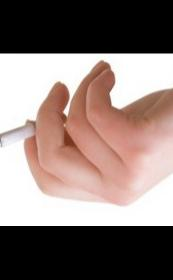Cigarette: (0, 124, 36, 150)
